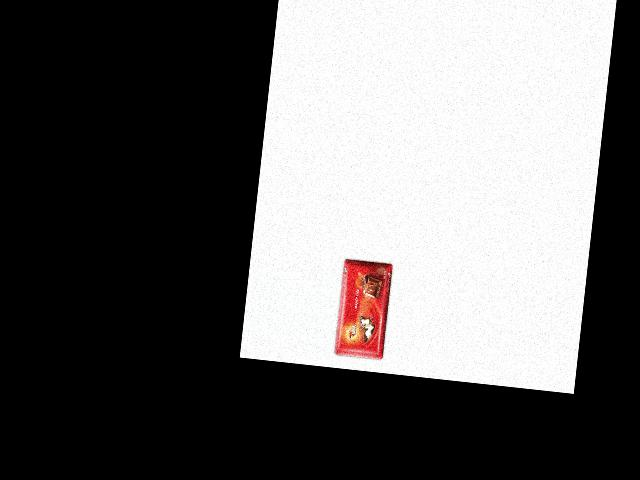chocolate: (333, 257, 396, 365)
